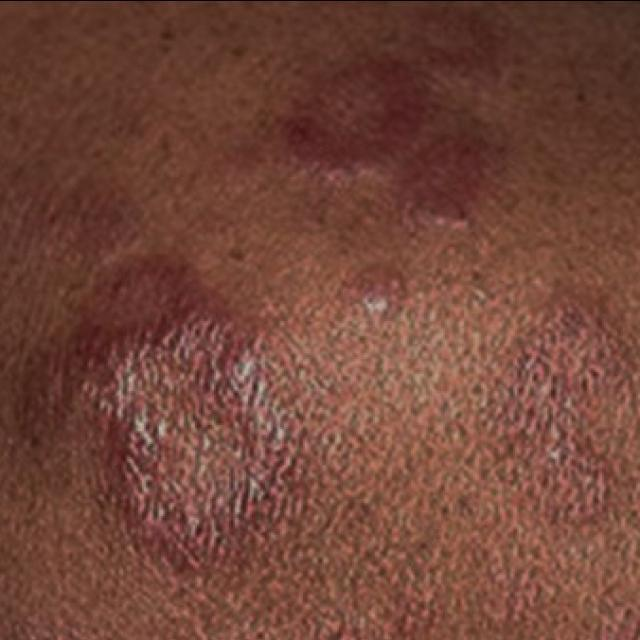Leprosy: (33, 224, 304, 598), (272, 0, 534, 220), (472, 265, 640, 559)
